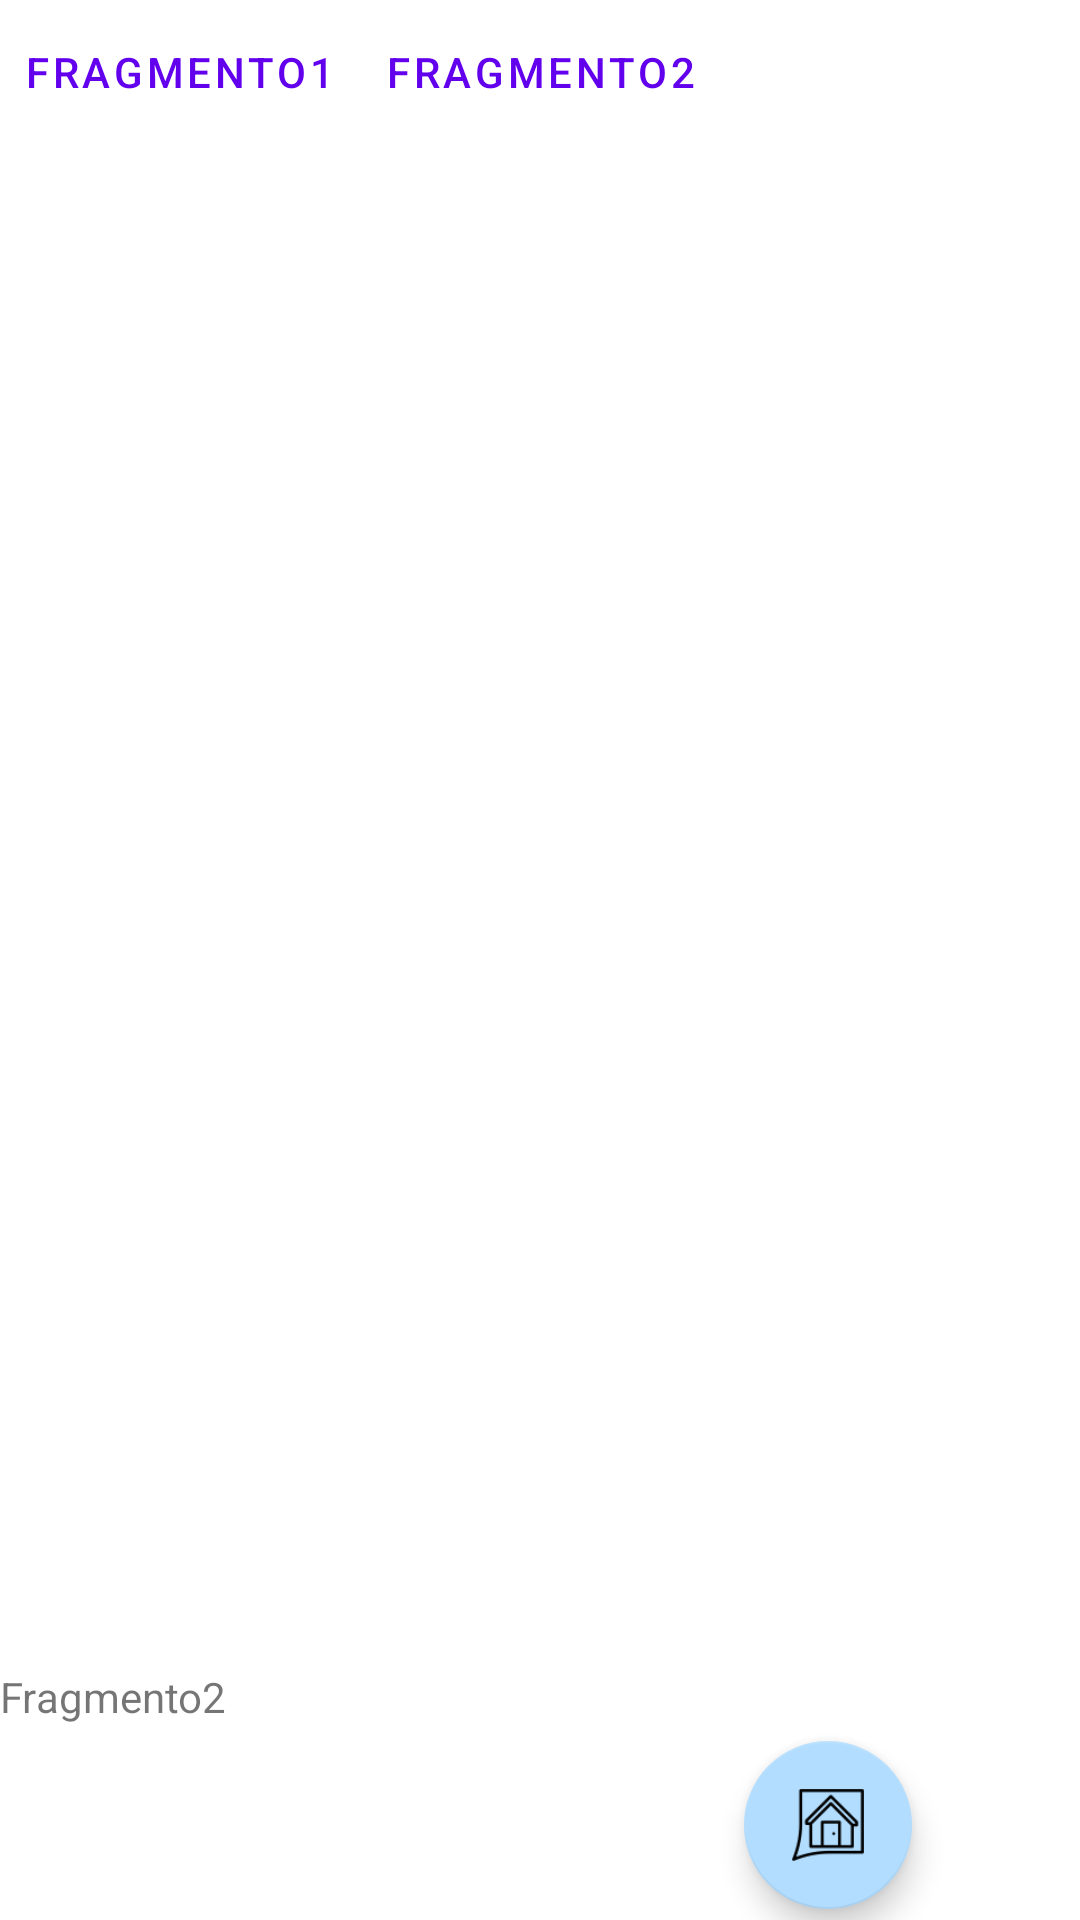

Point at icon controls on the screen. Image size 1080 x 1920, points as point (x, y).
home: point (828, 1825)
